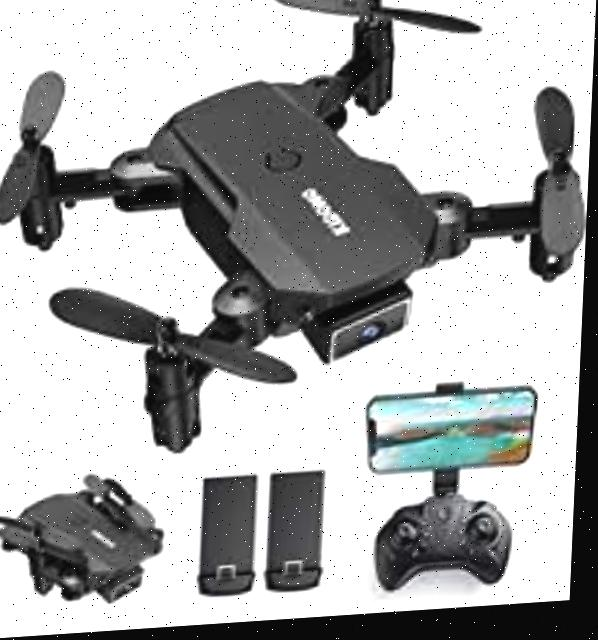drone: (0, 0, 598, 459)
